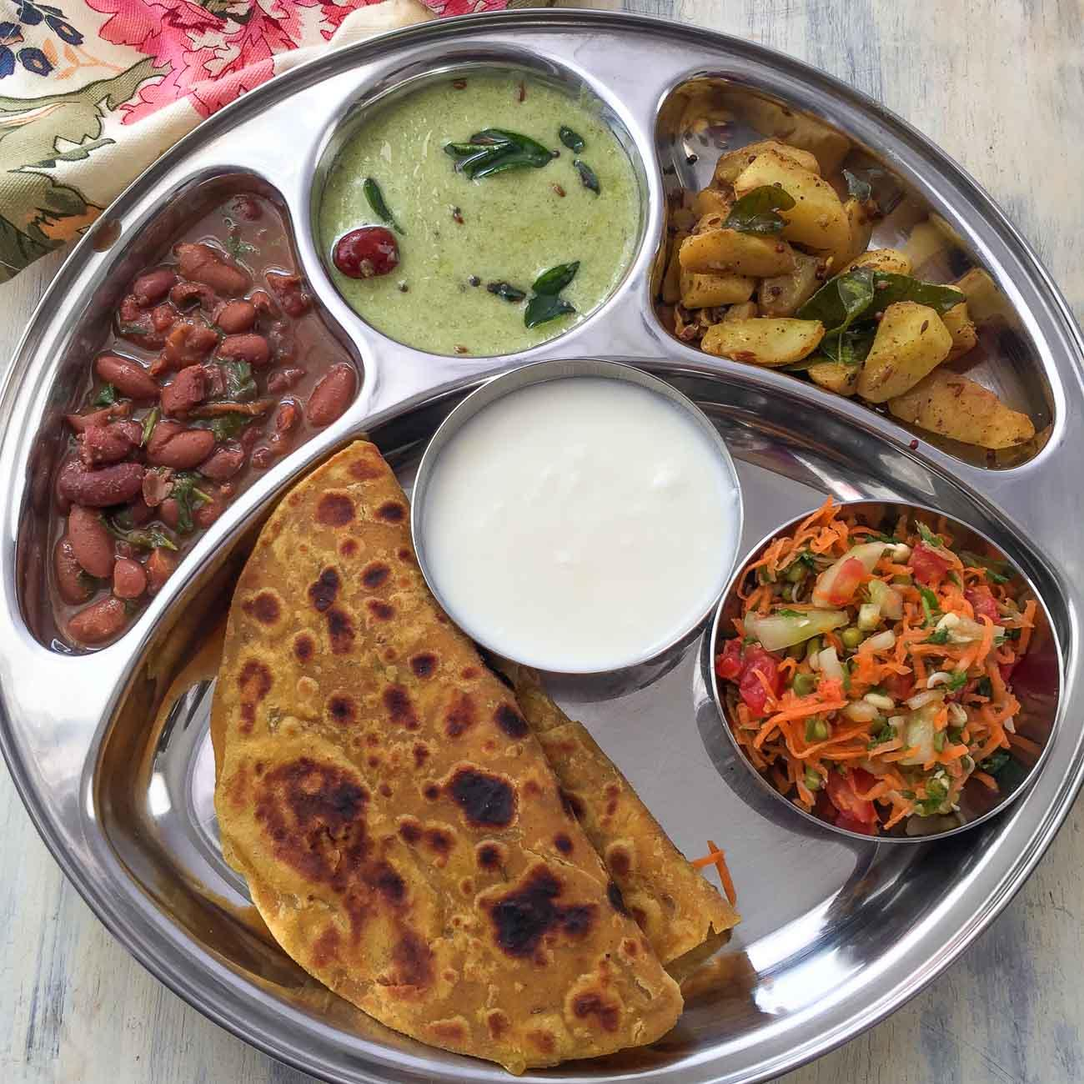rajma: (44, 170, 325, 484)
